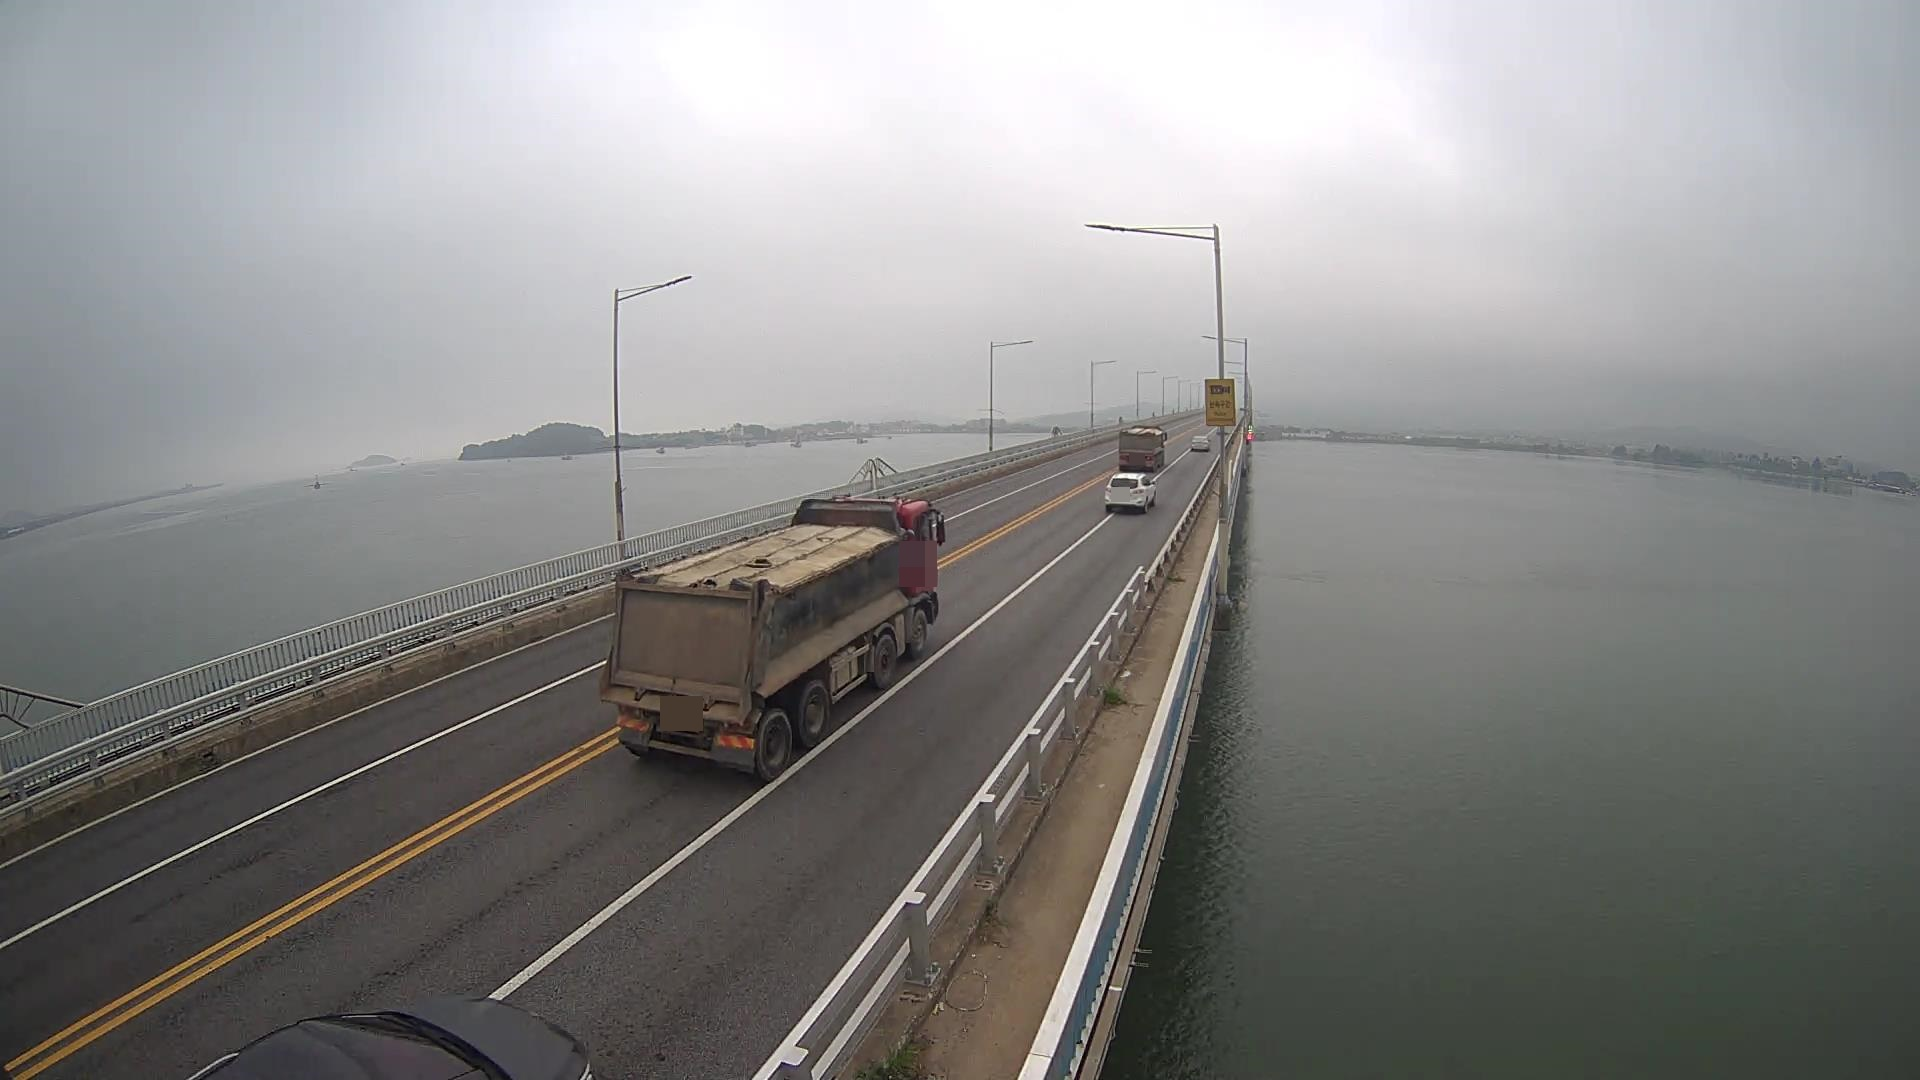정상차량: (601, 493, 947, 783)
